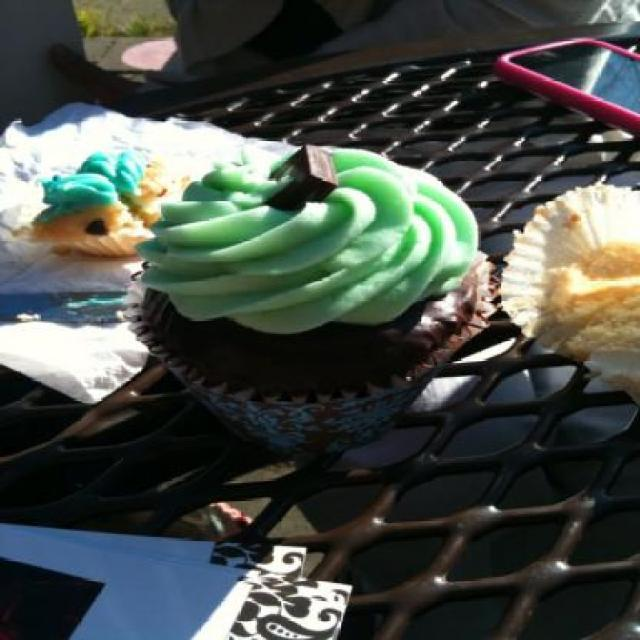Muffin: (120, 142, 503, 458), (30, 140, 190, 254), (541, 234, 639, 383)
